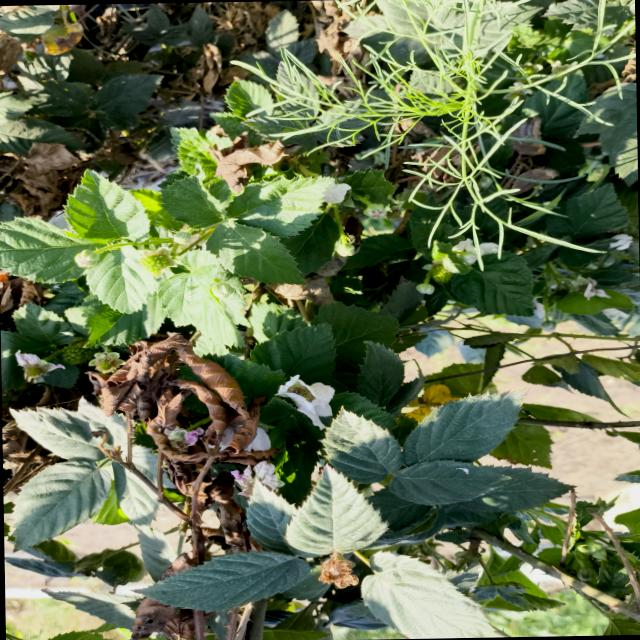boton: (74, 250, 98, 267), (170, 230, 191, 244), (363, 205, 386, 217), (335, 242, 354, 256), (415, 282, 434, 294), (211, 284, 228, 297)
verde: (139, 247, 176, 276), (430, 263, 453, 283)
